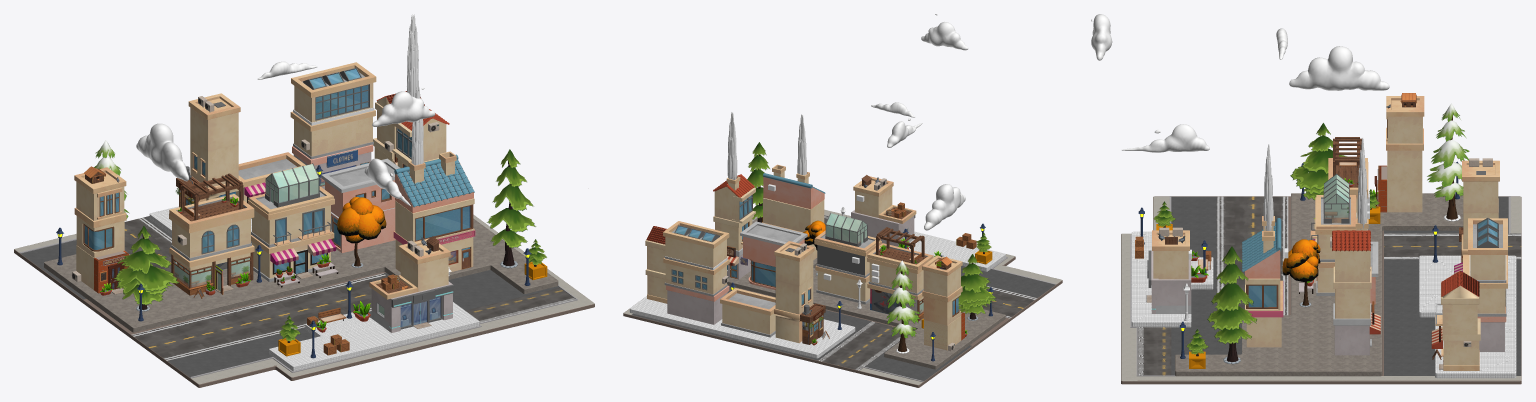
The model's file is town_ready_for_game_free.glb.
3 renders of one model, left to right at view 1: azimuth 30°, elevation 25°; view 2: azimuth 150°, elevation 25°; view 3: azimuth 270°, elevation 25°, orthographic. The views are drawn at different scales.
Visible parts, largest first — view 1: Land_21, Middle-concrete_10, Right-concrete_0, Cube.002_Plate.004_74, Cube.014_59, Cube.012_62, Cube.018_53, Cube.006_67, Cube.019_52, Object_10, model_4.015_4, Cube.013_61 (+32 smaller); view 2: Land_21, Middle-concrete_10, Left-concrete_11, Cube.010_64, Cube.014_59, Cube.002_Plate.001_76, Cube.006_67, Cube.002_Plate.004_74, Building.008_91, Object_10, model_3.004_6, Cube.016_55 (+32 smaller); view 3: Land_21, Middle-concrete_10, Left-concrete_11, model_3.005_5, model_0.003_114, Right-concrete_0, model_3.004_6, Cube.022_48, Building.021_85, Cube.002_Plate.004_74, Cube.014_59, Cube.016_55 (+29 smaller).
Part boxes in pixels (box(x1,y1,x2,y2)): Land_21: box(14, 214, 594, 387); Middle-concrete_10: box(44, 218, 558, 332); Right-concrete_0: box(269, 302, 479, 371); Cube.002_Plate.004_74: box(394, 151, 474, 212); Cube.014_59: box(291, 62, 376, 122); Cube.012_62: box(251, 232, 338, 287); Cube.018_53: box(248, 198, 334, 247); Cube.006_67: box(290, 110, 375, 159); Cube.019_52: box(371, 281, 454, 332); Object_10: box(169, 173, 254, 229); model_4.015_4: box(113, 226, 179, 309); Cube.013_61: box(169, 245, 254, 298); Land_21: box(623, 209, 1062, 387); Middle-concrete_10: box(727, 218, 1005, 369); Left-concrete_11: box(629, 296, 855, 358); Cube.010_64: box(720, 288, 775, 337); Cube.014_59: box(663, 221, 729, 269); Cube.002_Plate.001_76: box(740, 221, 807, 265); Cube.006_67: box(663, 258, 729, 296); Cube.002_Plate.004_74: box(763, 164, 825, 209); Building.008_91: box(666, 285, 729, 324); Object_10: box(867, 227, 933, 270); model_3.004_6: box(886, 260, 919, 351); Cube.016_55: box(814, 212, 880, 252); Land_21: box(1121, 196, 1521, 384); Middle-concrete_10: box(1175, 193, 1463, 376); Left-concrete_11: box(1419, 255, 1516, 378); model_3.005_5: box(1207, 246, 1256, 361); model_0.003_114: box(1289, 46, 1389, 90); Right-concrete_0: box(1131, 231, 1213, 327); model_3.004_6: box(1427, 103, 1469, 219); Cube.022_48: box(1332, 218, 1370, 282); Building.021_85: box(1462, 158, 1499, 212); Cube.002_Plate.004_74: box(1242, 216, 1281, 278); Cube.014_59: box(1468, 218, 1507, 282); Cube.016_55: box(1316, 173, 1355, 229).
Size of what is drawn, in the model's own units: 30.2 by 17.16 by 24.44.
Materials: 68 (60 with a texture image).
